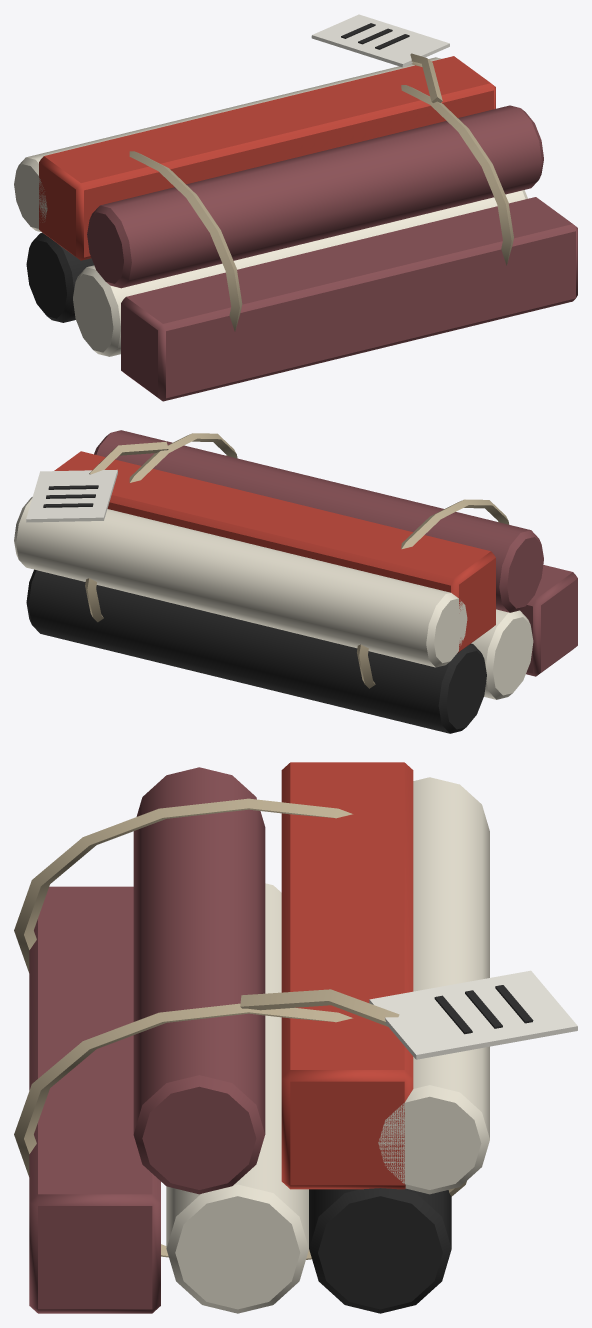
The model's file is polymer.glb.
3 views of the same model, one above another, from view 1: azimuth 30°, elevation 25°; view 2: azimuth 150°, elevation 25°; view 3: azimuth 270°, elevation 25° (orthographic). The views are drawn at different scales.
Parts seen in each view (by area): view 1: body; view 2: body; view 3: body.
Part boxes in pixels (bbox=[...]): body: bbox=[14, 14, 577, 401]; body: bbox=[14, 430, 577, 733]; body: bbox=[14, 762, 577, 1313].
Size of the model in its own units: 0.068 by 0.0293 by 0.0514.
